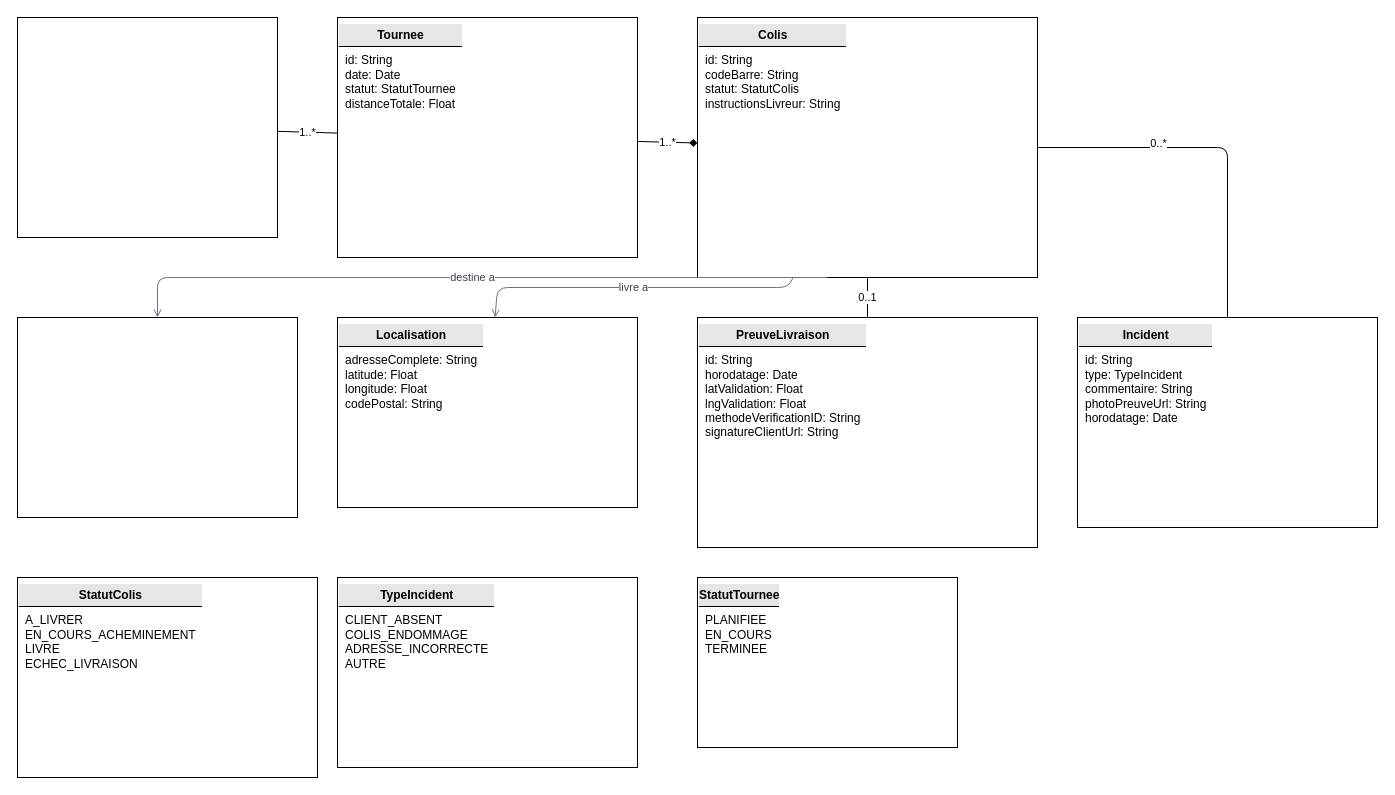
Some shapes in this 1395 by 795 pixel diagram are drawn without their labels. Each missing label, with the centre of its shape:
Destinataire id: String nomComplet: String telephone: String: point 157,417
Livreur id: String nom: String prenom : string email: String tokenAuth: String: point 147,127
